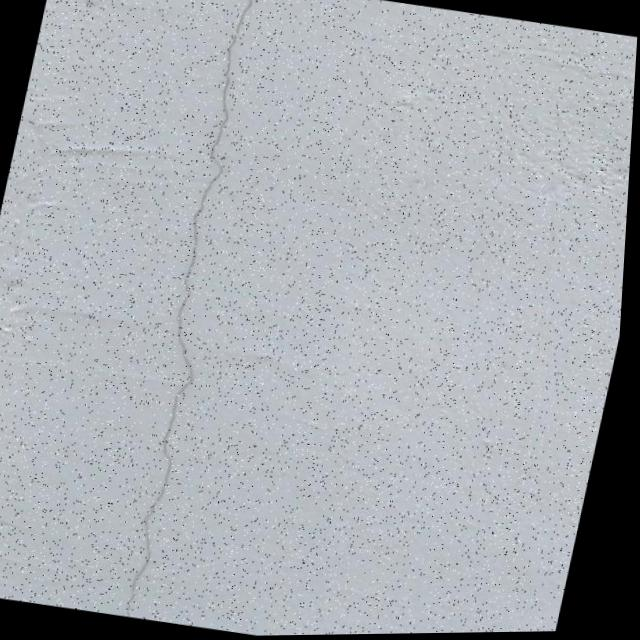Crack: (91, 0, 300, 624)
